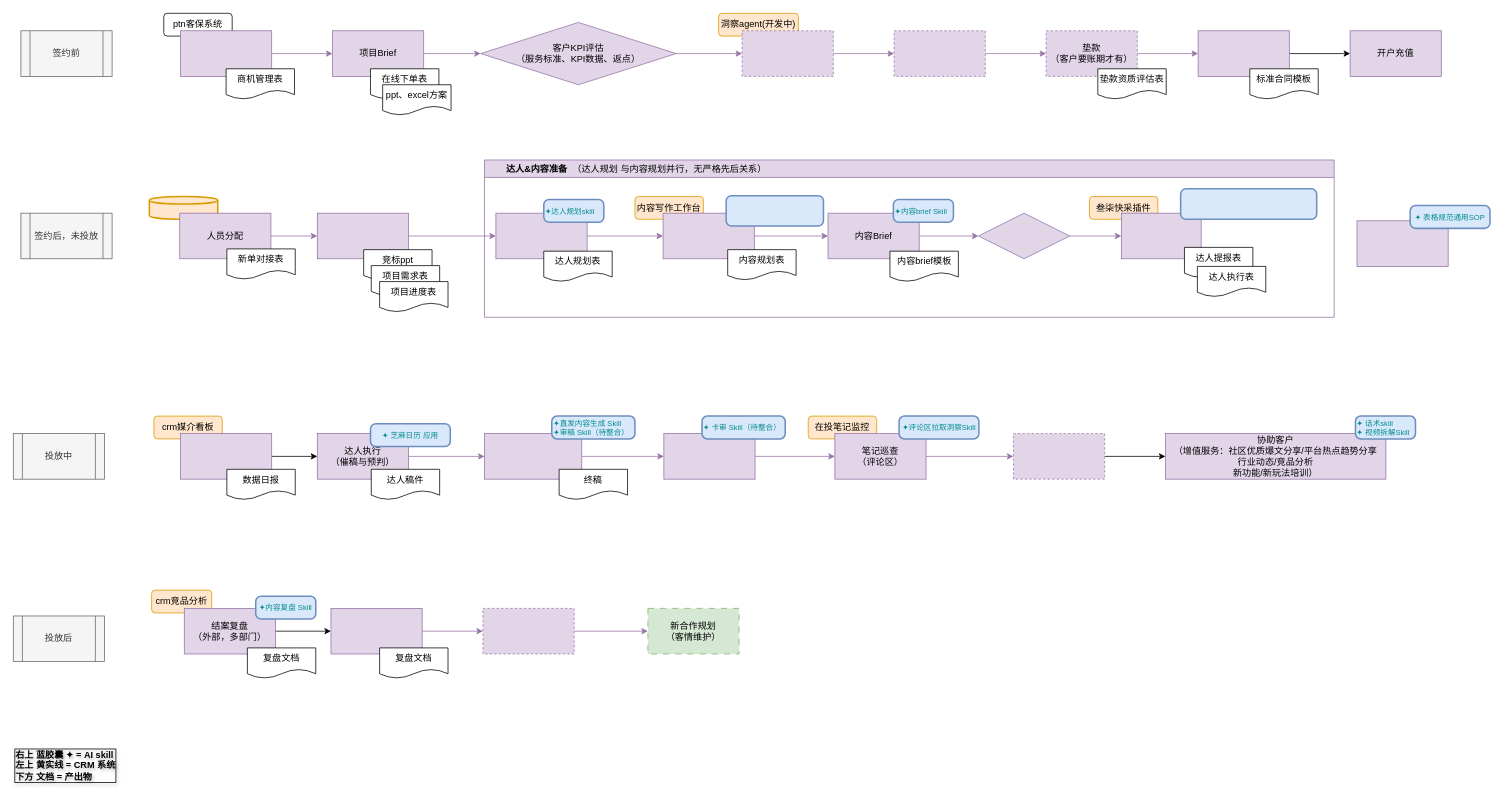
Some shapes in this 1504 by 802 pixel diagram are drawn without their labels. Each missing label, with the centre of its shape:
crm品牌客户库: [183,207]
✦脚本生成 Skill（macos） ✦内容洞察 Skill ✦内容规划 Skill: [774,210]
✦达人提报Skill（深圳+杭州）待整合 ✦ 时尚行业 达人提报 ✦ 蒲公英数据获取skill（转飞书）: [1248,204]
产出策略: [787,53]
内容执行 （审稿改稿、埋词、下单、评论区冷启动） （自产，达人）: [533,456]
内容规划: [708,235]
内部复盘: [376,631]
商机客保: [226,53]
执行规划修改: [1024,235]
社区巡查 （定向词汇搜索）: [1059,456]
竞标: [939,53]
笔记修改与验收 （卡审修改笔记）: [709,456]
签约合同 （先看达人内容规划准备）: [1243,53]
达人规划: [541,235]
达人选号确认 建联达人 沟通定档 合作下单: [1161,235]
返点回收（风控） （协助财务）: [528,631]
进度同步: [226,456]
通用: [1402,243]
项目启动会: [362,235]
